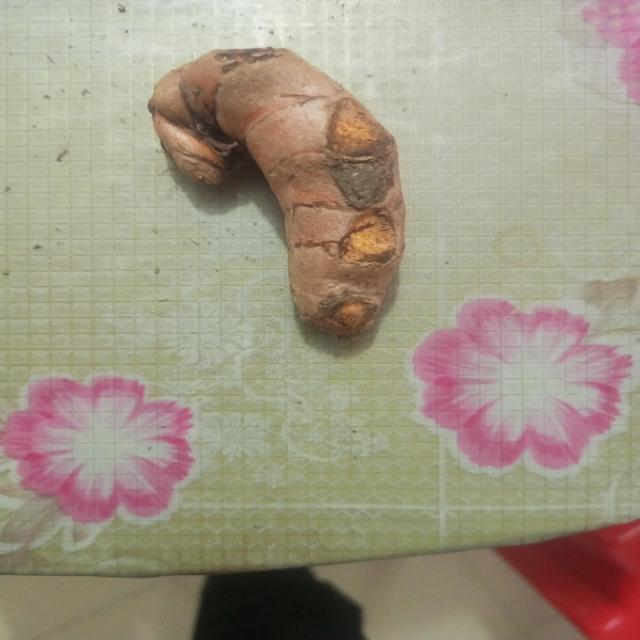ginger: (163, 49, 420, 324)
